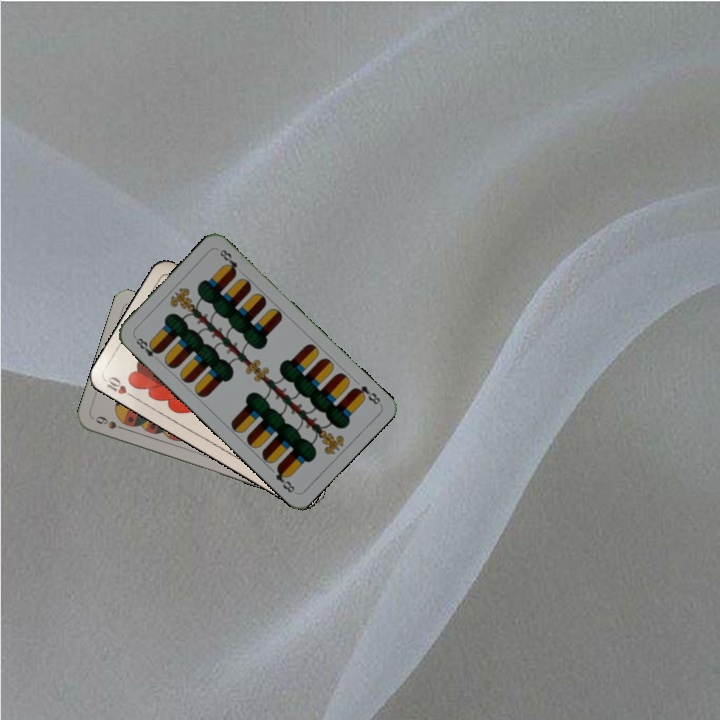E8: (130, 332, 163, 360), (349, 382, 383, 407)
H10: (102, 372, 139, 402)
S9: (91, 412, 130, 433)
